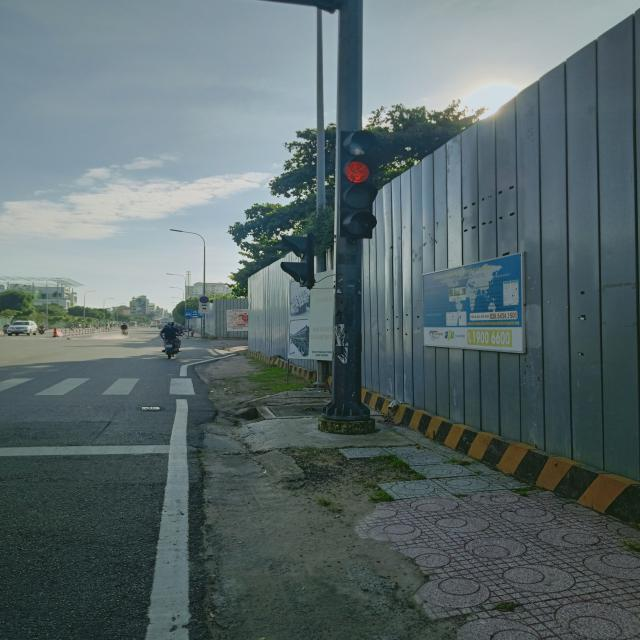Red: (335, 153, 382, 240)
